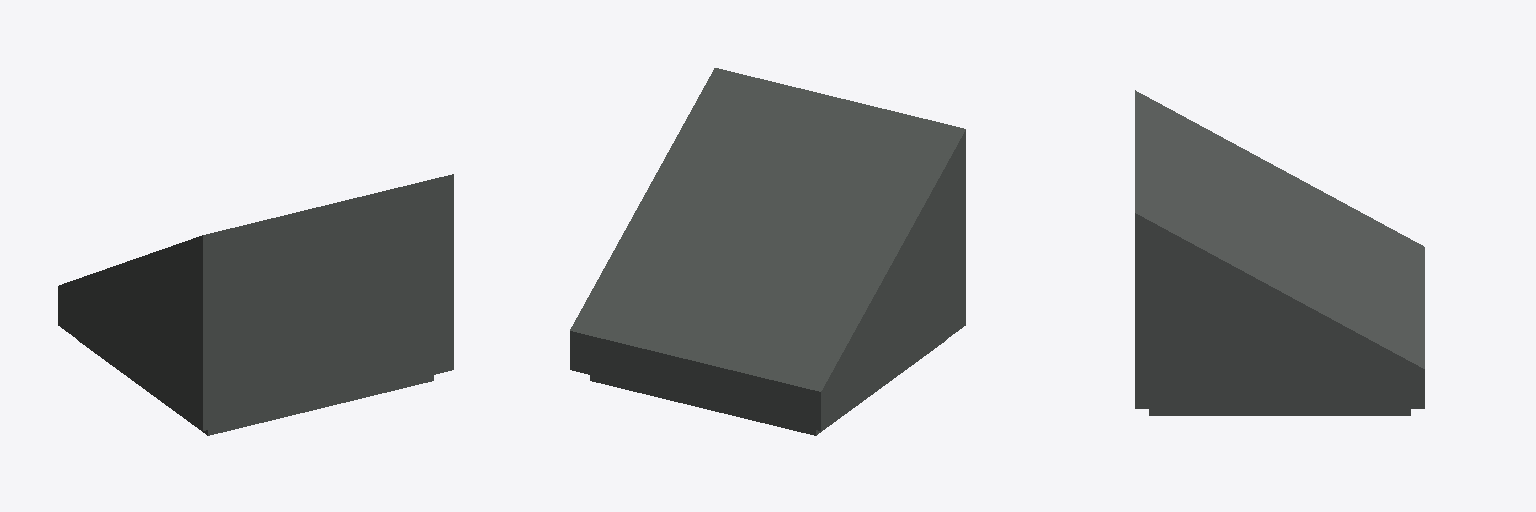
The model's file is Roof_tile_31_1x1.obj.
The picture shows the model from 3 angles: view 1: azimuth 30°, elevation 25°; view 2: azimuth 150°, elevation 25°; view 3: azimuth 270°, elevation 25°; orthographic projection.
Visible parts, largest first — view 1: 54200_1.54200_1n_54200_1, box4_1.box4_1n_box4_1; view 2: 54200_1.54200_1n_54200_1, box4_1.box4_1n_box4_1; view 3: 54200_1.54200_1n_54200_1, box4_1.box4_1n_box4_1.
Part boxes in pixels (x1,y1,x2,y2): 54200_1.54200_1n_54200_1: (58,174,453,430); box4_1.box4_1n_box4_1: (78,340,433,435); 54200_1.54200_1n_54200_1: (570,68,965,430); box4_1.box4_1n_box4_1: (590,340,945,435); 54200_1.54200_1n_54200_1: (1135,90,1424,408); box4_1.box4_1n_box4_1: (1149,409,1410,415).
Size of the model in its own units: 1.95 by 1.55 by 1.95.